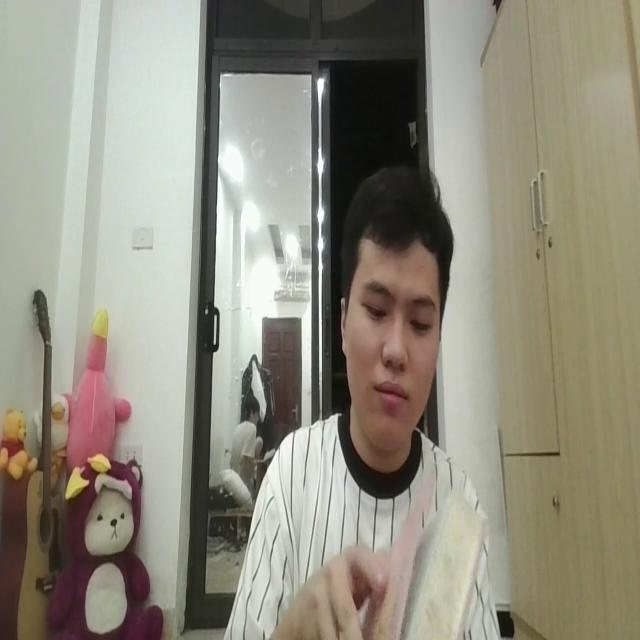book: (374, 462, 486, 640)
student: (235, 159, 498, 640)
